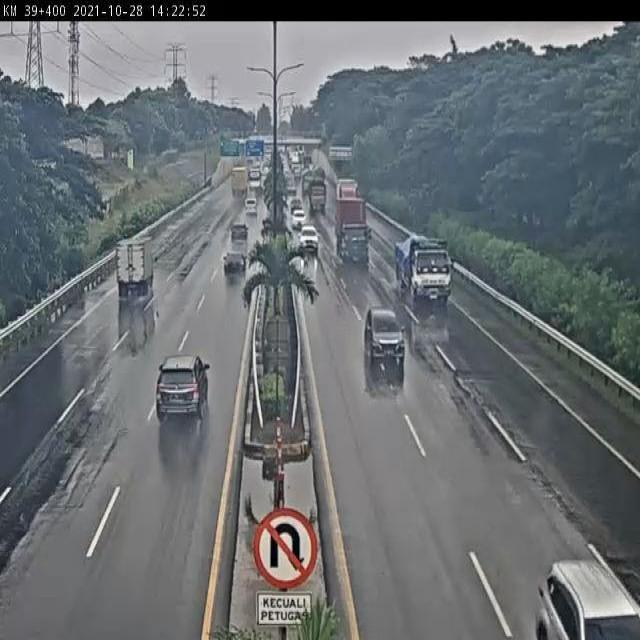car: (155, 351, 208, 418)
truck-l-: (394, 233, 459, 307)
truck-m-: (115, 236, 153, 299)
truck-xl-: (335, 196, 374, 271)
